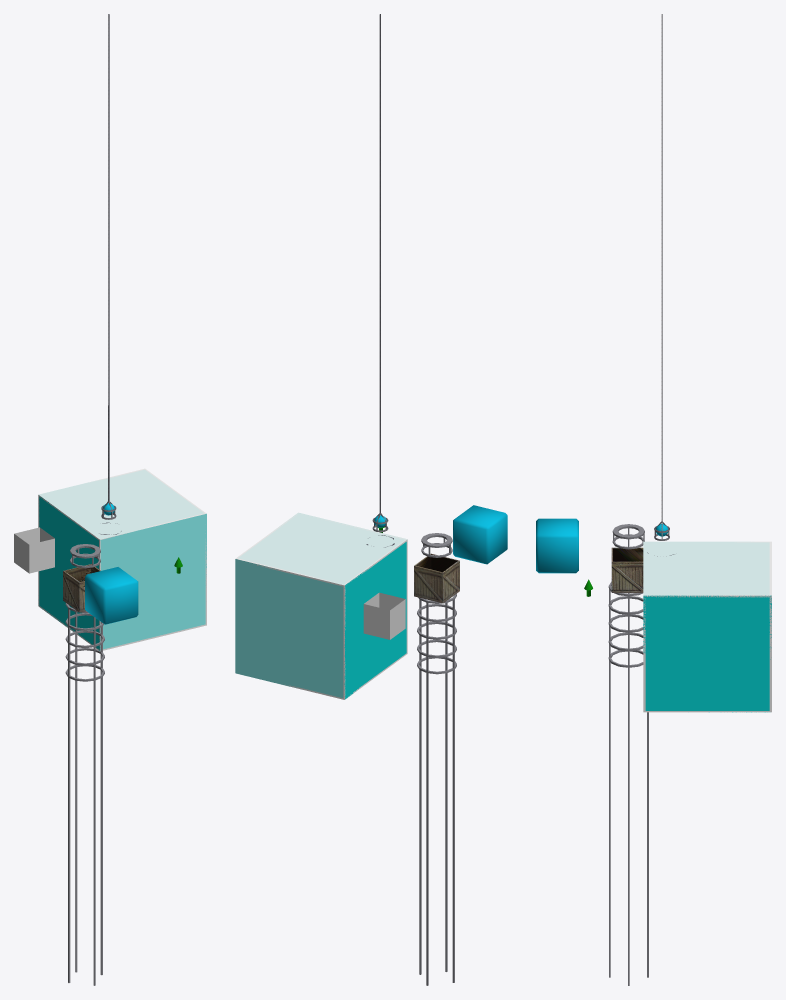
Rendered from pipedown.glb.
3 renders of one model, left to right at view 1: azimuth 30°, elevation 25°; view 2: azimuth 150°, elevation 25°; view 3: azimuth 270°, elevation 25°, orthographic. The views are drawn at different scales.
Parts seen in each view (by area): view 1: BoxOutline, Cup, BoxChrome, Proxy_Cup, BallSucker; view 2: BoxOutline, Cup, BoxChrome, Proxy_Cup, BallSucker; view 3: BoxOutline, Cup, BoxChrome, BallSucker.
Boxes of the visible parts, x1,y1,x2,y2 form: BoxOutline: [38, 468, 206, 650]; Cup: [63, 544, 104, 985]; BoxChrome: [85, 567, 138, 624]; Proxy_Cup: [14, 527, 54, 573]; BallSucker: [101, 14, 116, 519]; BoxOutline: [235, 512, 407, 699]; Cup: [414, 533, 459, 985]; BoxChrome: [453, 505, 507, 564]; Proxy_Cup: [363, 592, 405, 639]; BallSucker: [372, 14, 388, 532]; BoxOutline: [643, 541, 771, 712]; Cup: [608, 524, 648, 985]; BoxChrome: [536, 518, 578, 573]; BallSucker: [654, 14, 669, 540].
Size of the model in its own units: 6.93 by 40.51 by 8.81.
21 materials, 6 textured.
